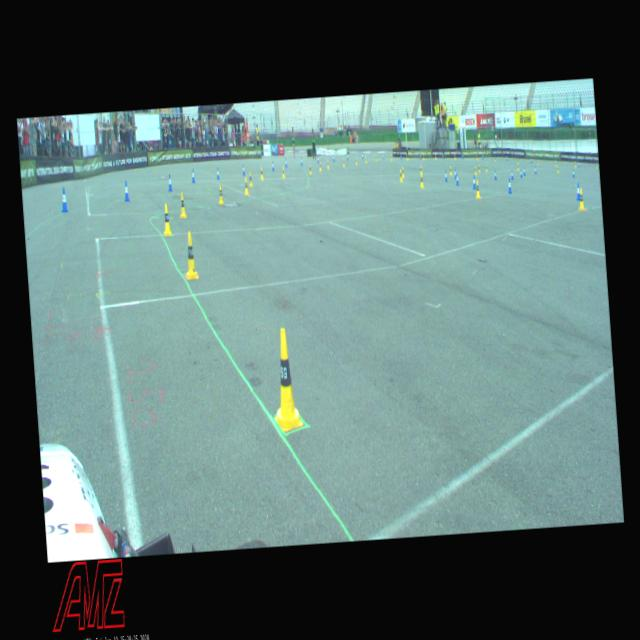blue_cone: (59, 186, 68, 212), (123, 180, 129, 200), (506, 178, 512, 194), (167, 173, 172, 190), (575, 183, 580, 199), (191, 168, 195, 182), (472, 174, 476, 188), (455, 172, 459, 185), (216, 167, 219, 179), (444, 170, 447, 181), (242, 164, 245, 175), (271, 161, 274, 171), (519, 168, 522, 177), (511, 170, 514, 179), (454, 168, 456, 178), (522, 166, 524, 175), (494, 170, 496, 179), (285, 158, 287, 167), (572, 168, 574, 177), (300, 156, 302, 164), (534, 166, 536, 173), (317, 156, 319, 163), (382, 152, 384, 159), (530, 156, 532, 162), (332, 154, 333, 161), (347, 153, 348, 160), (482, 153, 483, 159), (506, 154, 507, 160), (598, 162, 599, 168), (442, 154, 443, 158), (362, 152, 362, 159), (578, 161, 578, 167), (420, 153, 420, 159)
yellow_cone: (268, 328, 303, 431), (182, 232, 198, 278), (162, 203, 171, 235), (178, 192, 186, 217), (578, 188, 584, 210), (474, 180, 480, 198), (218, 184, 223, 203), (244, 178, 248, 195), (419, 172, 423, 187), (248, 172, 252, 186), (260, 166, 263, 179), (399, 169, 402, 181), (401, 166, 404, 177), (419, 164, 422, 173), (449, 166, 452, 174), (282, 166, 284, 177), (318, 161, 320, 170), (309, 165, 311, 174), (342, 158, 344, 166), (326, 160, 328, 168), (355, 156, 357, 164), (474, 166, 476, 174), (485, 164, 487, 171), (556, 165, 558, 172), (574, 162, 576, 168), (554, 160, 556, 166), (596, 162, 598, 168), (516, 158, 518, 163), (478, 164, 479, 172), (517, 162, 518, 170), (454, 154, 456, 158), (365, 156, 366, 163), (407, 153, 408, 160), (375, 154, 376, 160), (391, 154, 392, 160), (422, 154, 423, 160), (537, 159, 538, 165), (435, 152, 436, 158), (494, 156, 495, 161), (476, 155, 477, 159)
